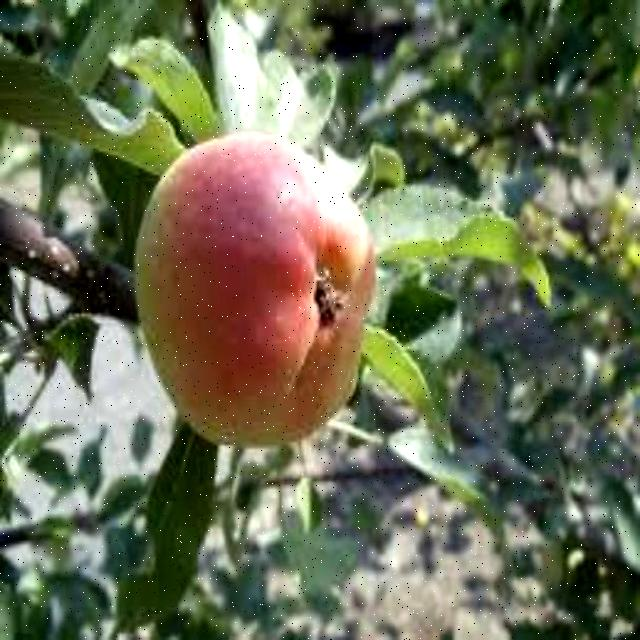HEALTHY: (123, 115, 392, 467)
